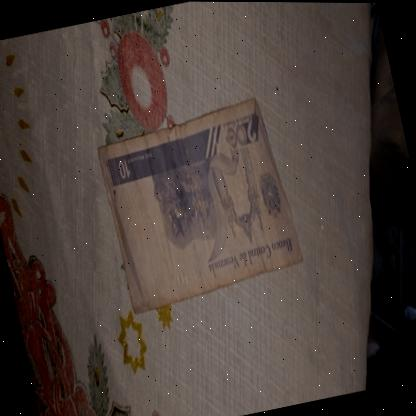ten-back-vef: (94, 92, 308, 315)
